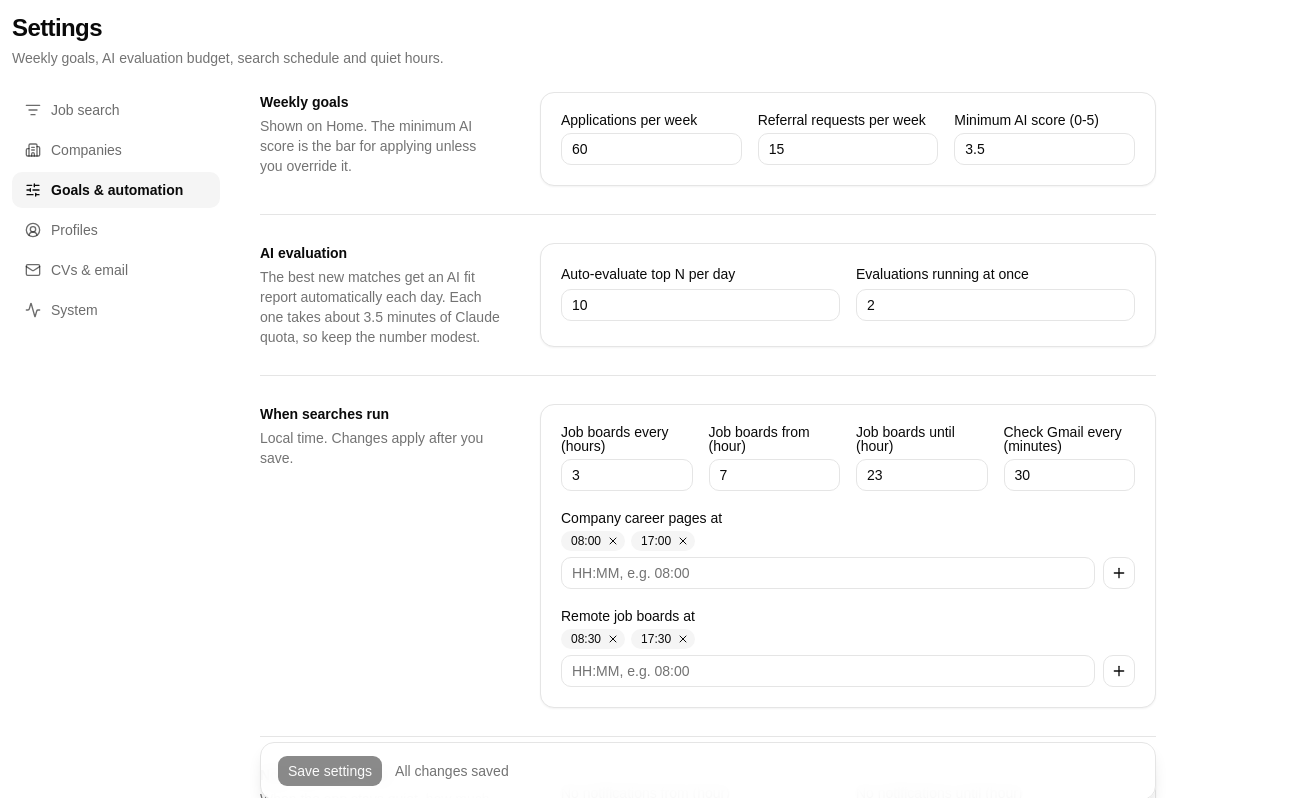
it: Settings form › blocks saving invalid numbers
Step 1. Clear the number field labelled "Evaluations running at once" → (996, 305), box top-left (856, 289), bottom-right (1135, 321)
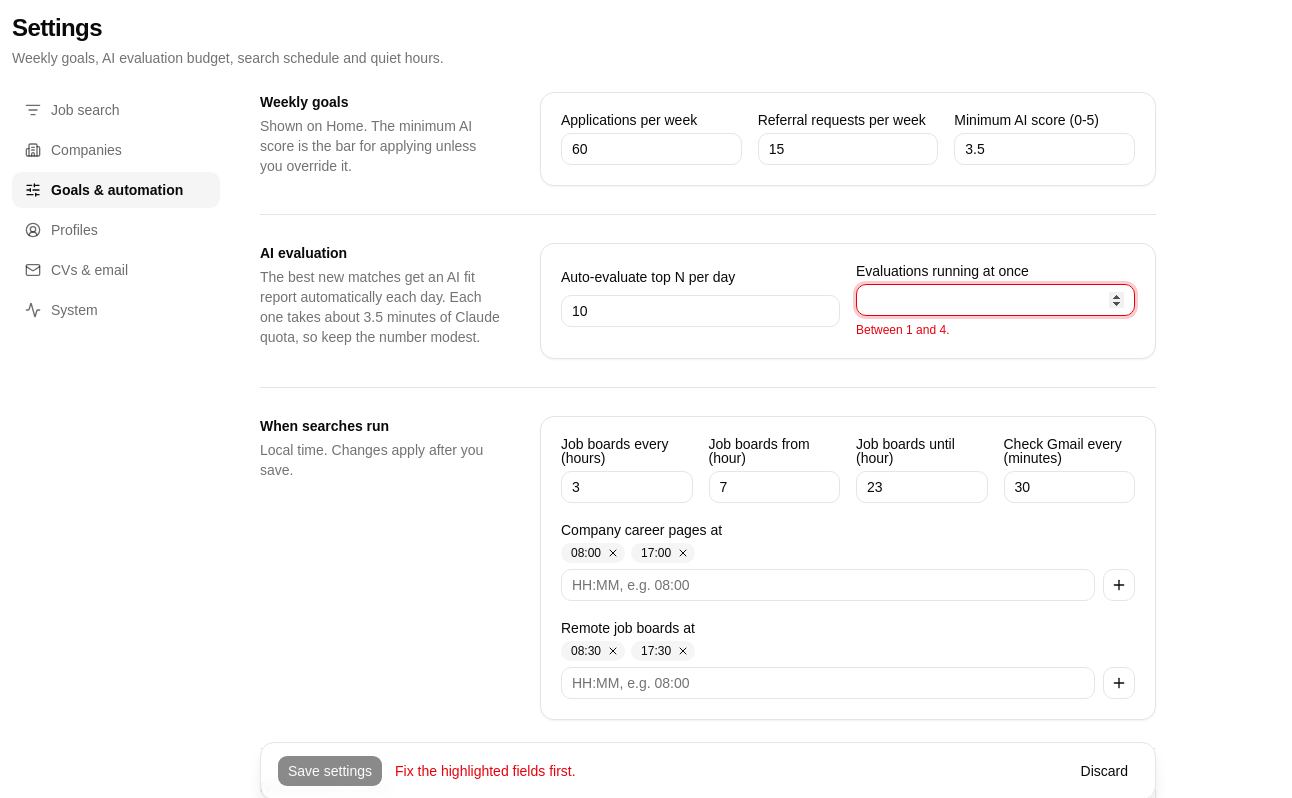
Step 2. Type "9" into the number field labelled "Evaluations running at once" → (996, 300), box top-left (856, 284), bottom-right (1135, 316)
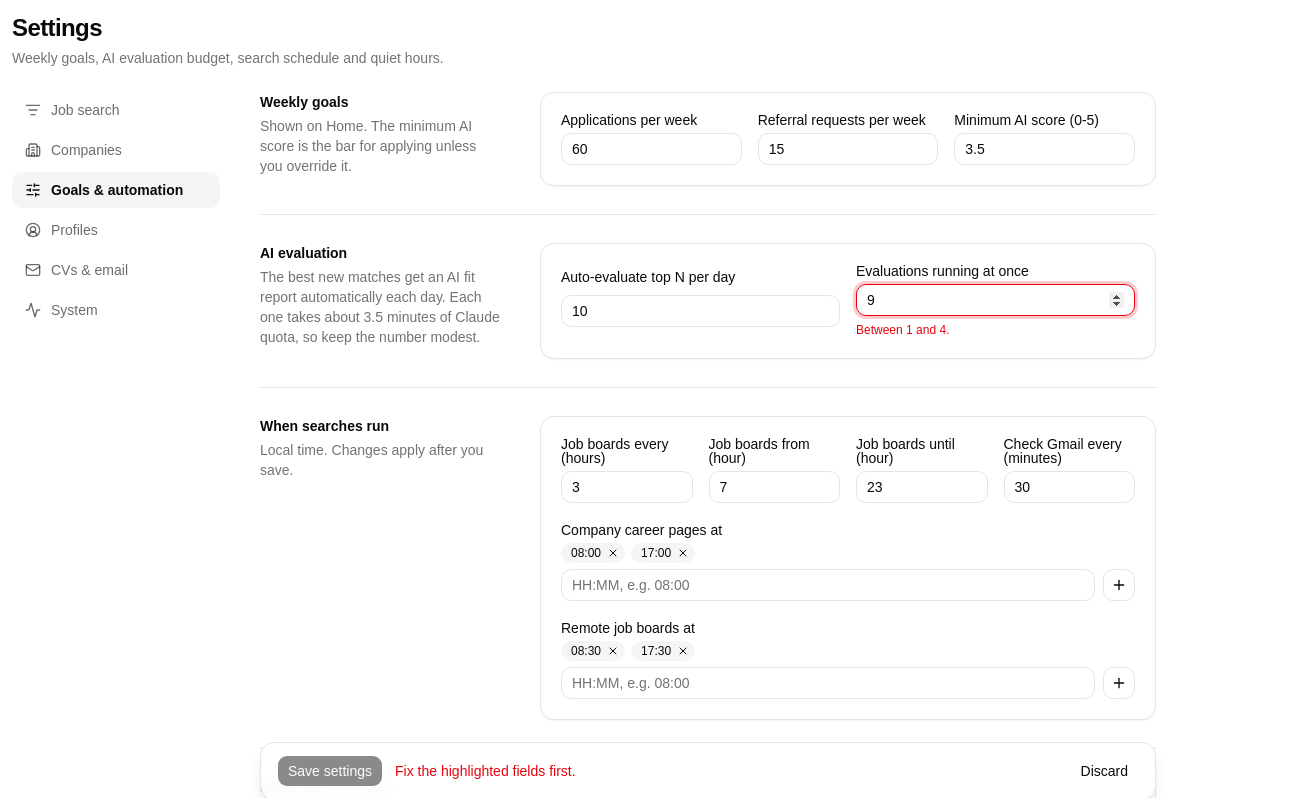
Expected: the button "Save settings" is disabled, top-left (277, 755), bottom-right (383, 787)
Now the text "Between 1 and 4." is shown, box top-left (856, 323), bottom-right (950, 337)
Step 3. Replace the text in the number field labelled "Evaluations running at once" with "3" → (996, 300), box top-left (856, 284), bottom-right (1135, 316)
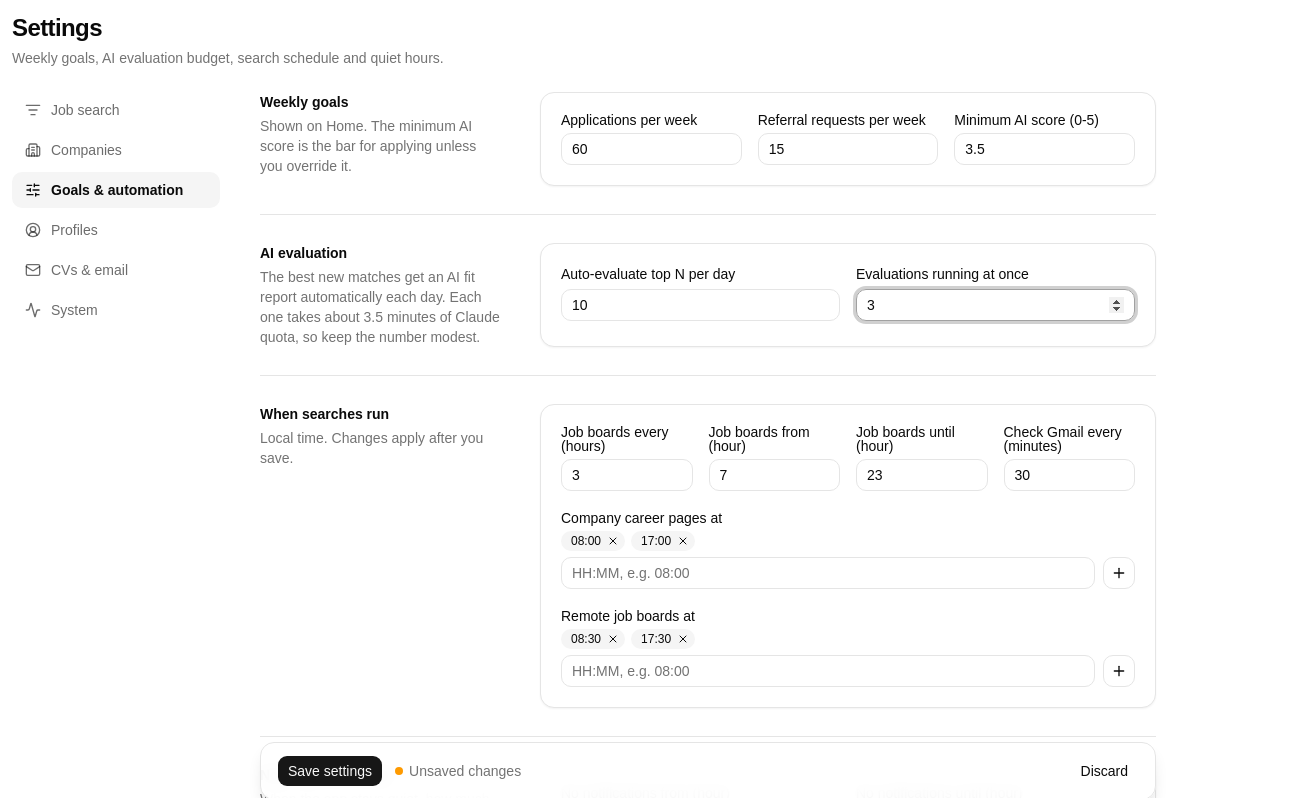
Now the button "Save settings" is enabled, box top-left (277, 755), bottom-right (383, 787)
